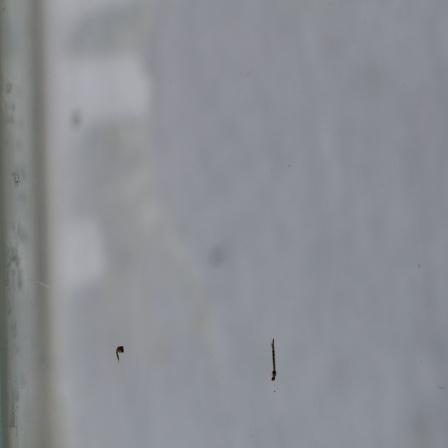Jentik-Nyamuk: (266, 335, 281, 383), (111, 343, 128, 363)
